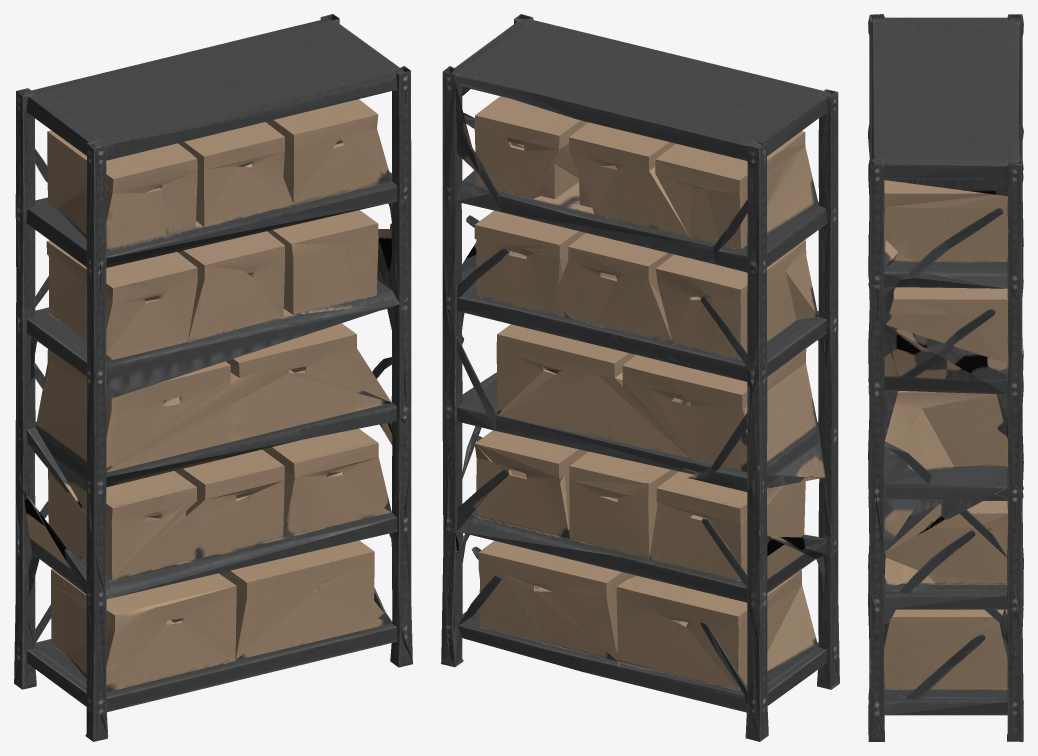
Rendered from shelving.glb.
The picture shows the model from 3 angles, left to right: view 1: azimuth 30°, elevation 25°; view 2: azimuth 150°, elevation 25°; view 3: azimuth 270°, elevation 25°; orthographic projection. The views are drawn at different scales.
Visible parts, largest first — view 1: output_unwrapped; view 2: output_unwrapped; view 3: output_unwrapped.
Part boxes in pixels (x1,y1,x2,y2): output_unwrapped: [14, 14, 412, 741]; output_unwrapped: [441, 14, 839, 741]; output_unwrapped: [868, 14, 1023, 741].
Bounding box in the file's own units: 1.13 × 2 × 0.4895.
Materials: 1 (1 with a texture image).
